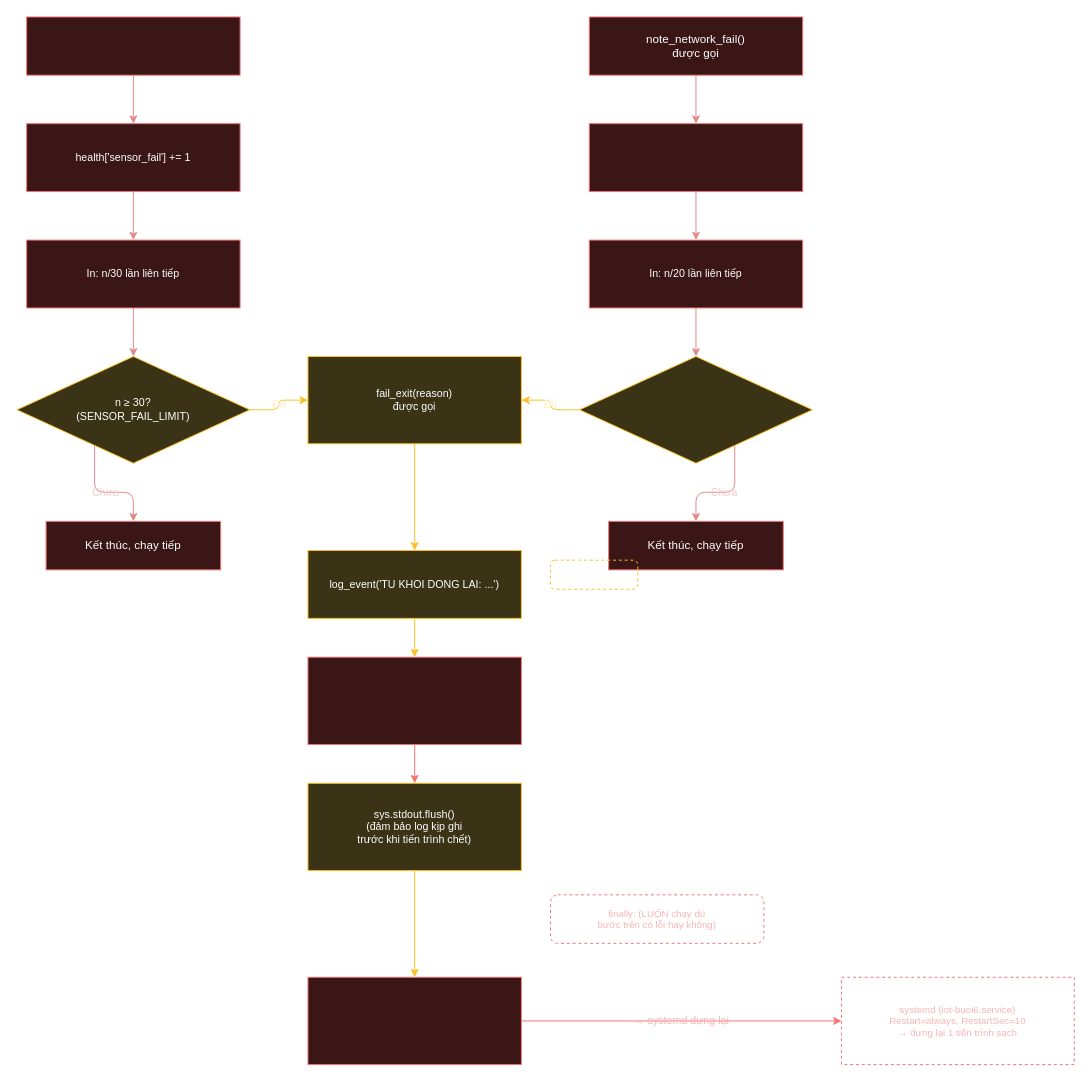
This 1091x1082 diagram has some shape labels left out. The shapes that lost their labels are listed below. From the top down, each one's centre as x and y in pixels, then its label:
pixel 133 45: note_sensor_fail() được gọi
pixel 695 157: health['network_fail'] += 1
pixel 695 409: n ≥ 20? (NETWORK_FAIL_LIMIT)
pixel 594 574: try:
pixel 414 700: cleanup_outputs(): tắt LED, Buzzer, Relay (mỗi thiết bị try/except riêng)
pixel 414 1020: os._exit(1) (kết thúc CẢ tiến trình ngay, bỏ qua mọi finally khác)
